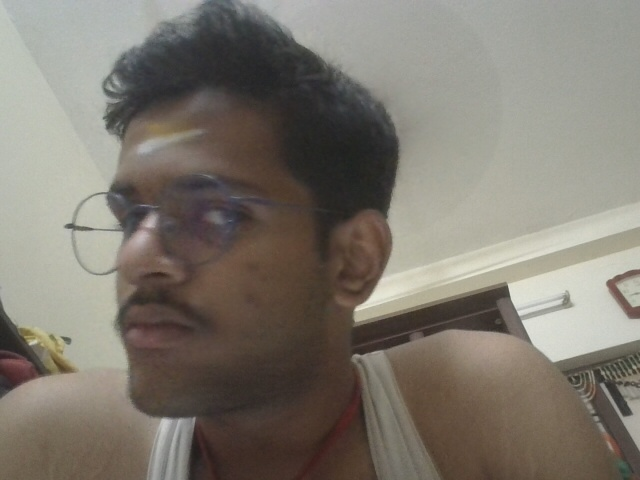real: (68, 208, 129, 269)
